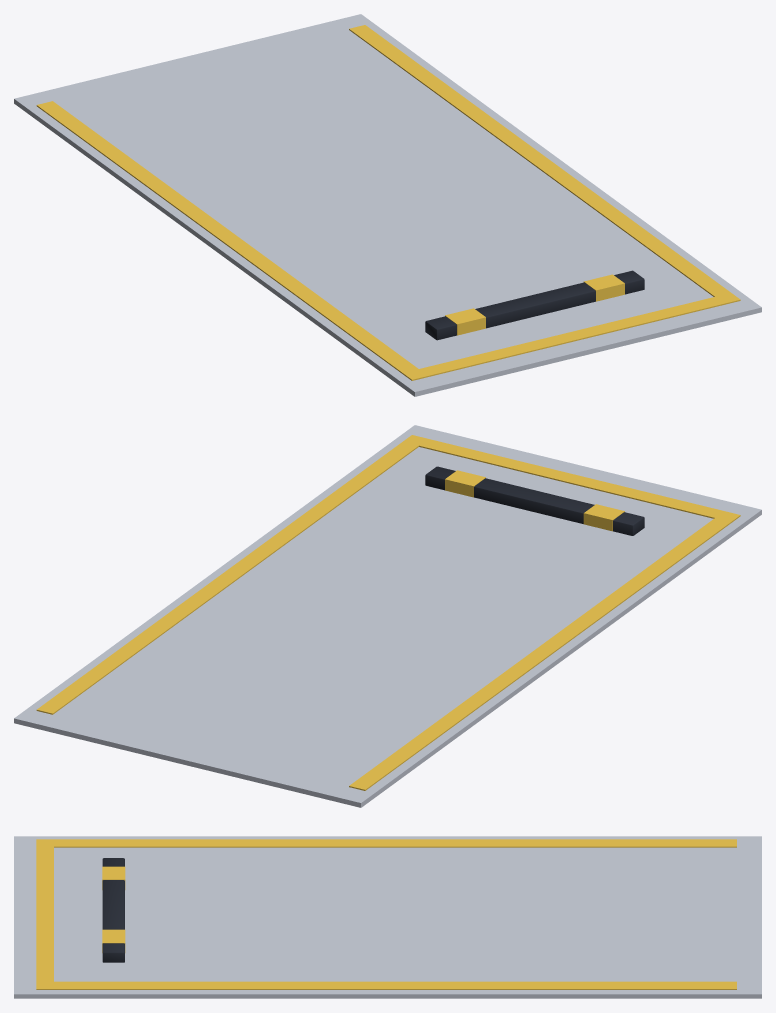
The model's file is bay_marker.glb.
The picture shows the model from 3 angles, top to bottom: view 1: azimuth 30°, elevation 25°; view 2: azimuth 150°, elevation 25°; view 3: azimuth 270°, elevation 25°; orthographic projection. The views are drawn at different scales.
Visible parts, largest first — view 1: Bay_Base, Bay_Line_L, Bay_Line_R, Bay_Line_End, Bay_WheelStop, Bay_WheelStop_CapL, Bay_WheelStop_CapR; view 2: Bay_Base, Bay_Line_R, Bay_Line_L, Bay_Line_End, Bay_WheelStop, Bay_WheelStop_CapL, Bay_WheelStop_CapR; view 3: Bay_Base, Bay_Line_R, Bay_Line_L, Bay_Line_End, Bay_WheelStop, Bay_WheelStop_CapR, Bay_WheelStop_CapL.
Boxes of the visible parts, box(x1,y1,x2,y2) form: Bay_Base: box(14, 14, 761, 396); Bay_Line_L: box(36, 101, 426, 379); Bay_Line_R: box(349, 25, 738, 301); Bay_Line_End: box(403, 293, 740, 380); Bay_WheelStop: box(425, 270, 644, 340); Bay_WheelStop_CapL: box(445, 308, 485, 335); Bay_WheelStop_CapR: box(583, 274, 624, 301); Bay_Base: box(14, 425, 761, 807); Bay_Line_R: box(36, 436, 425, 714); Bay_Line_L: box(349, 513, 738, 790); Bay_Line_End: box(403, 435, 740, 521); Bay_WheelStop: box(425, 466, 644, 535); Bay_WheelStop_CapL: box(583, 504, 624, 531); Bay_WheelStop_CapR: box(445, 470, 485, 497); Bay_Base: box(14, 836, 761, 998); Bay_Line_R: box(39, 981, 736, 989); Bay_Line_L: box(39, 839, 736, 847); Bay_Line_End: box(36, 839, 53, 989); Bay_WheelStop: box(102, 858, 124, 962); Bay_WheelStop_CapR: box(102, 929, 125, 952); Bay_WheelStop_CapL: box(102, 866, 125, 889).
Bounding box in the file's own units: 3 × 0.133 × 6.
